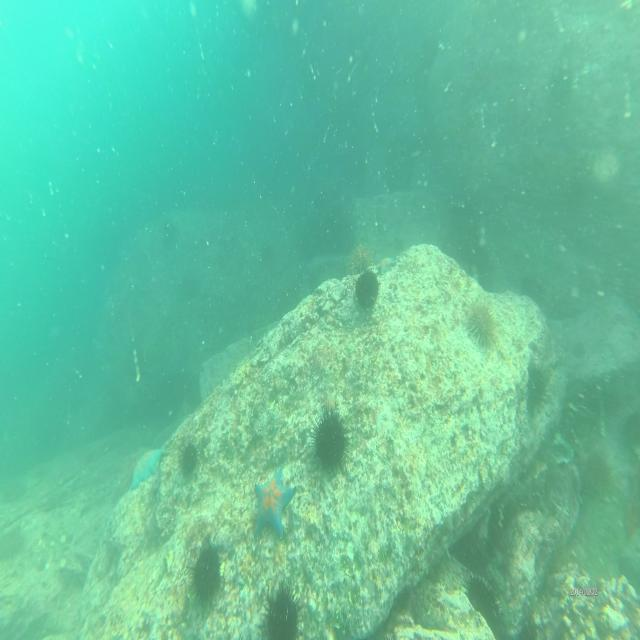echinus: (306, 401, 354, 473), (189, 532, 225, 597), (259, 585, 303, 638), (462, 298, 496, 350), (582, 443, 613, 500), (354, 264, 380, 316), (525, 356, 549, 411), (178, 444, 198, 472)
starfish: (251, 462, 295, 536), (130, 443, 164, 489)
